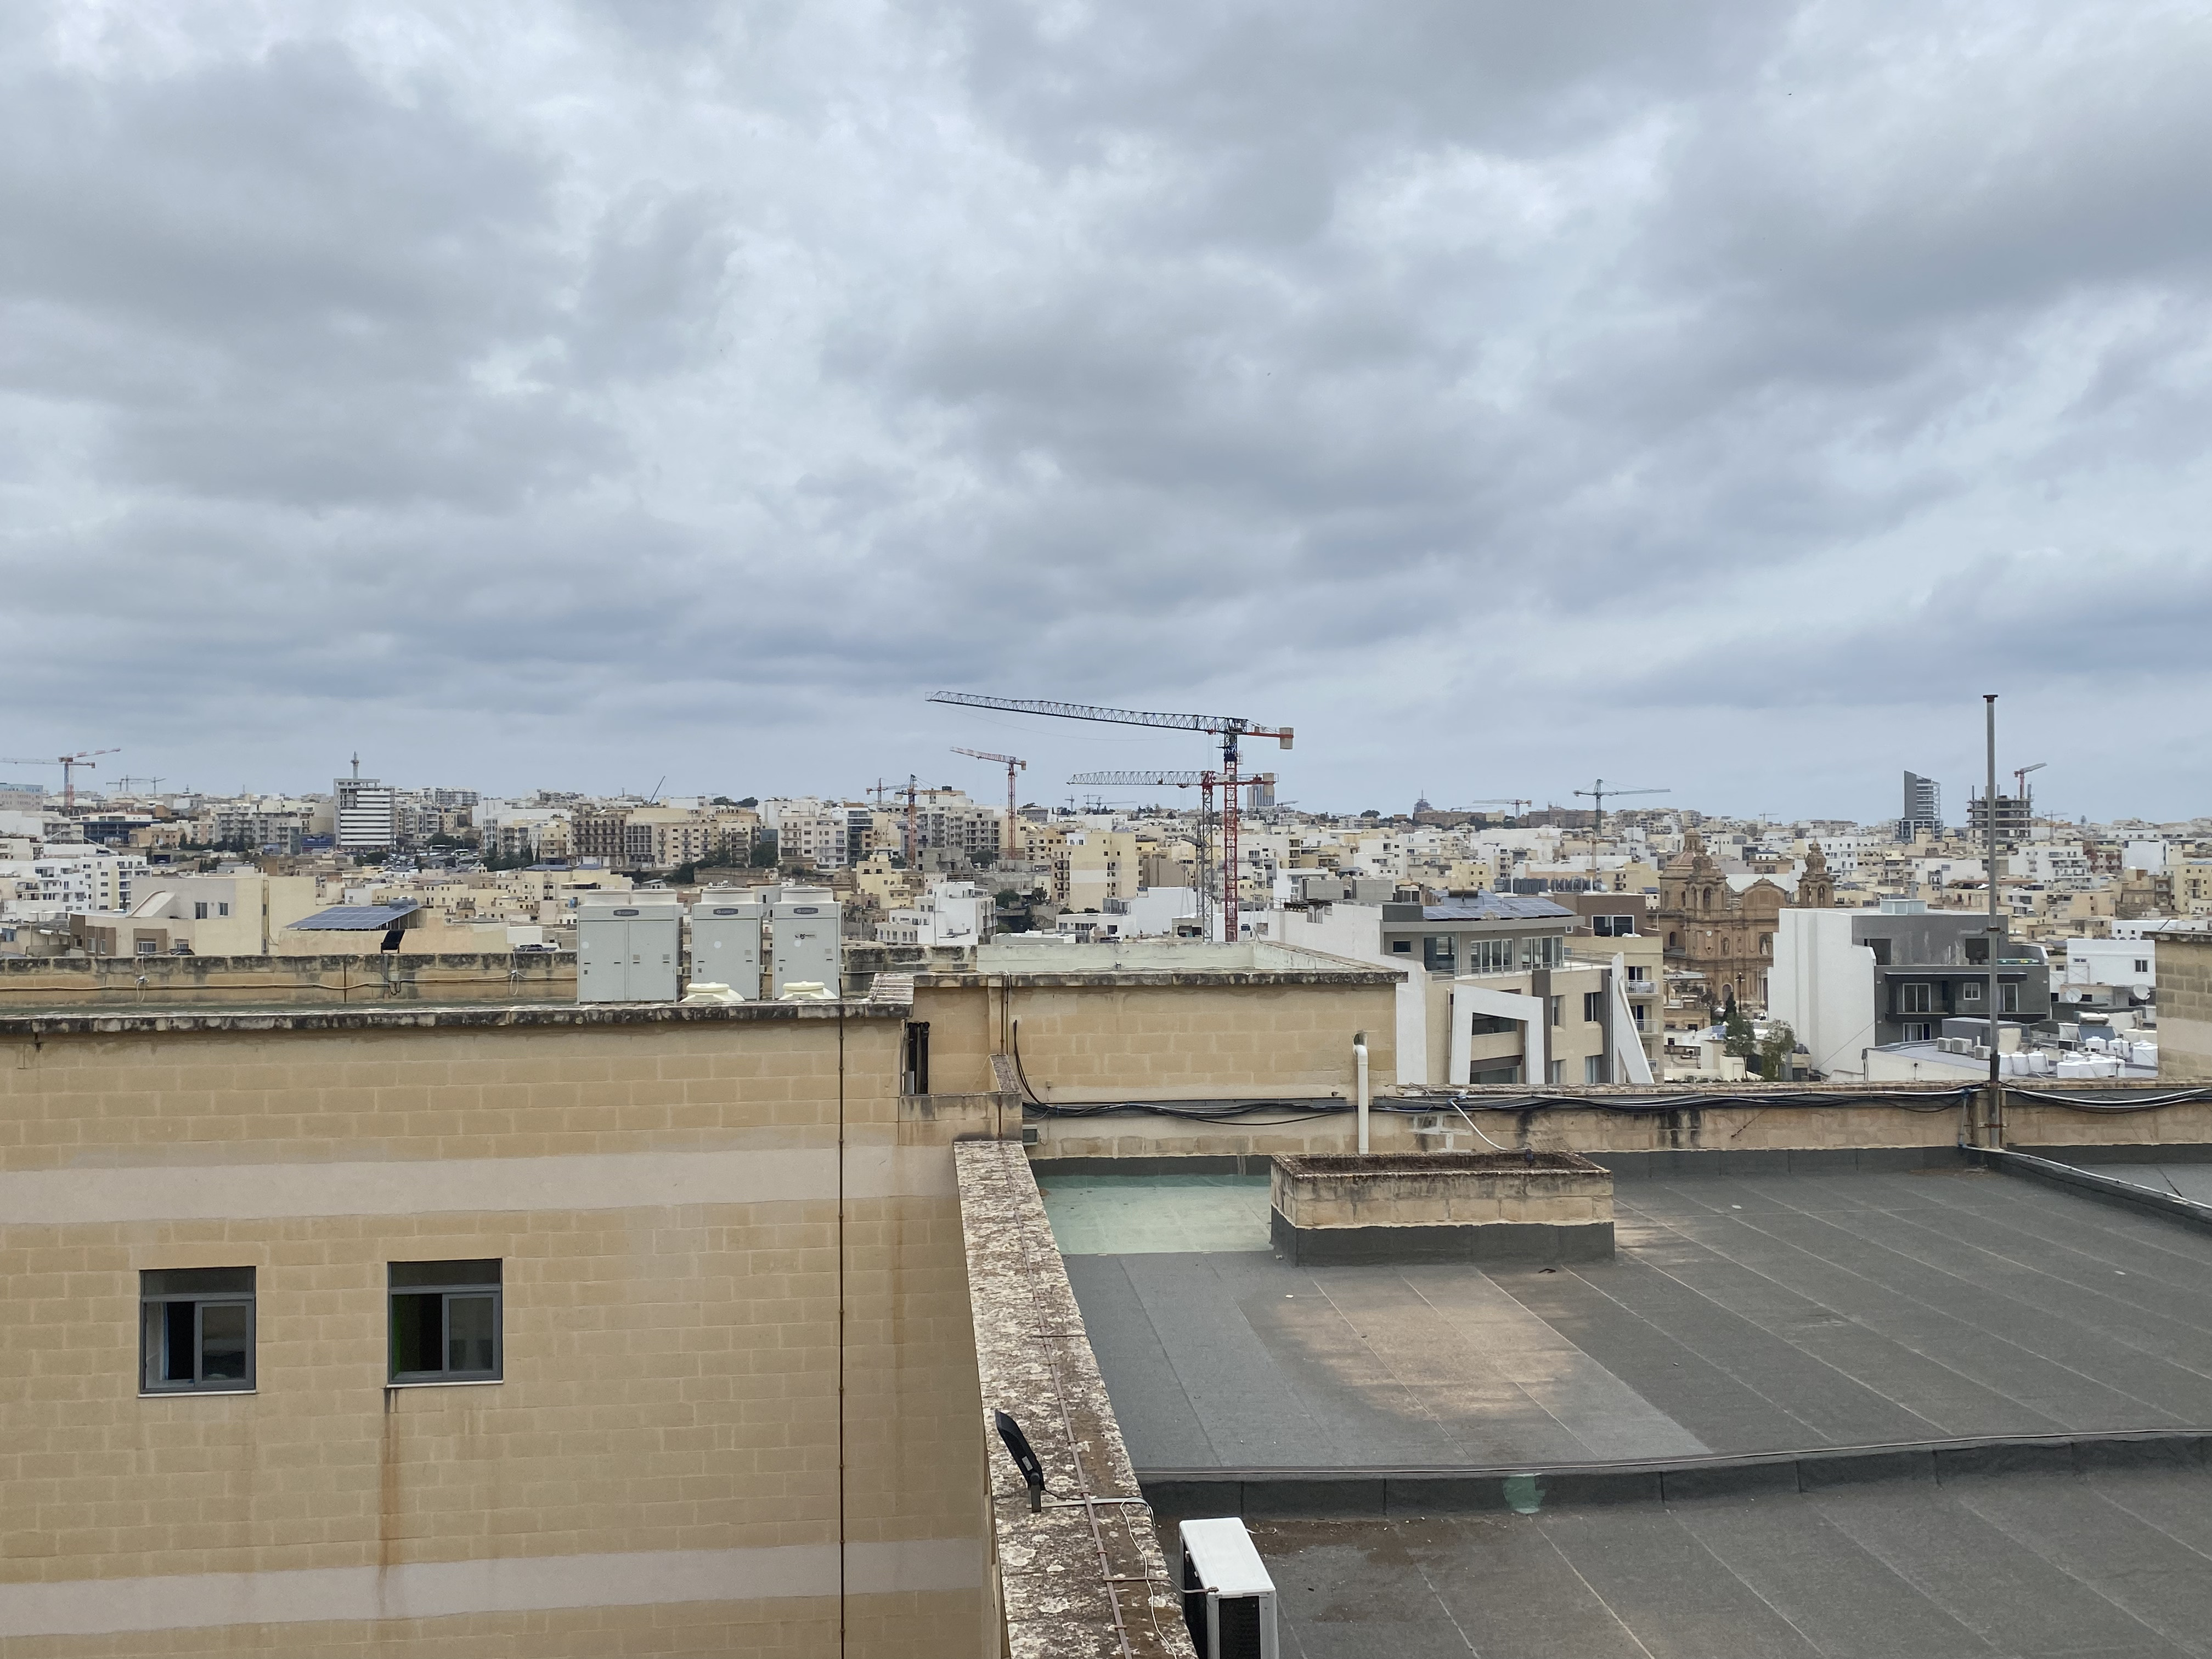Crane: (921, 673, 1317, 915), (1061, 755, 1285, 831), (948, 728, 1031, 828), (0, 744, 129, 802), (1564, 770, 1679, 824), (2010, 753, 2062, 800)
